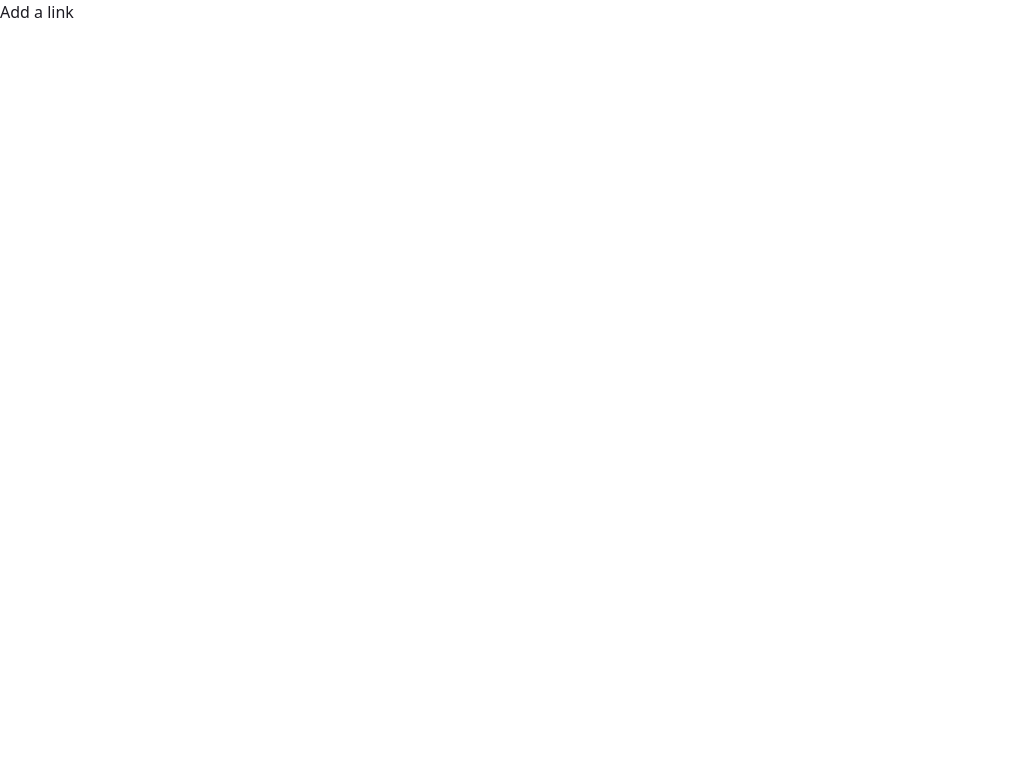
Test case: AddLinkDialog › shows the server’s reason when a link can’t be previewed
The width and height of the screenshot is (1024, 768).
Step 1. Click the button "Add a link" → (37, 12), box x1=0 y1=0 x2=74 y2=24
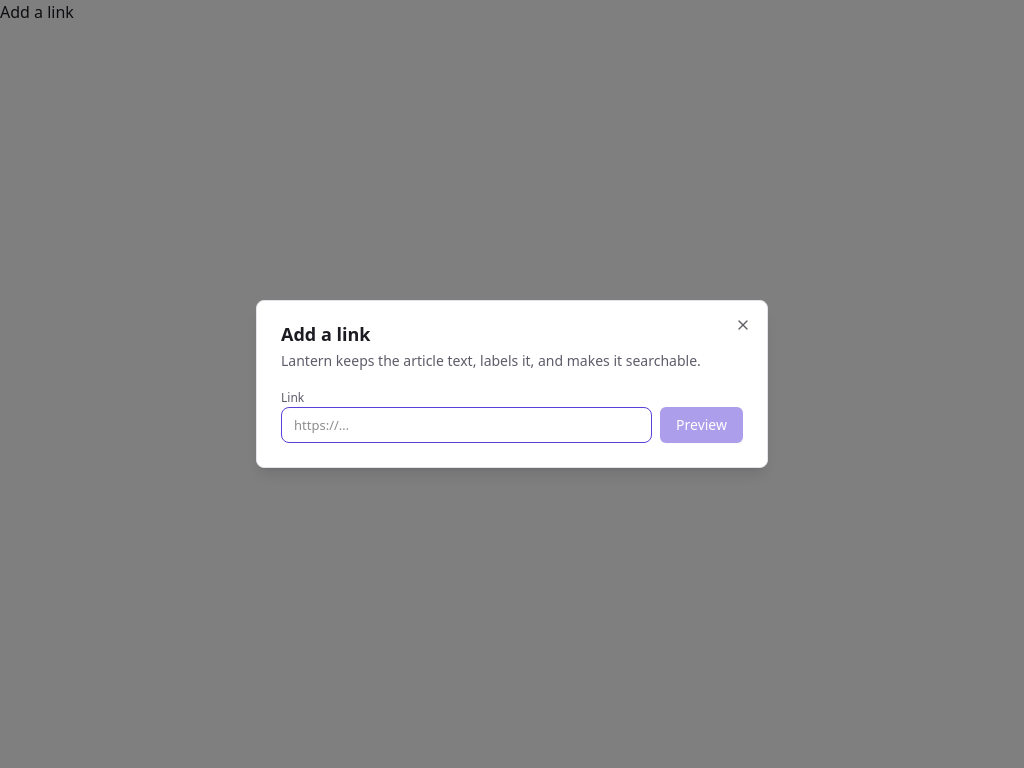
Step 2. Type "https://ised-isde.canada.ca/aida" into the field with placeholder "https://…" → (467, 425), box x1=281 y1=407 x2=652 y2=443
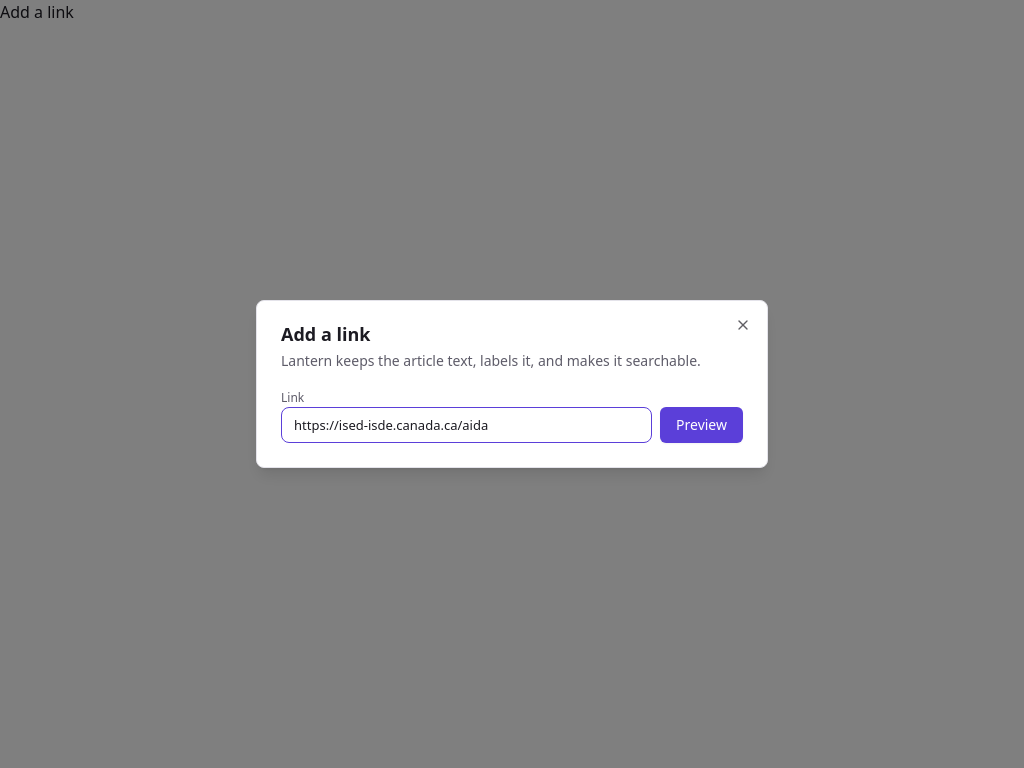
Step 3. Click the button "Preview" → (702, 425), box x1=660 y1=407 x2=743 y2=443
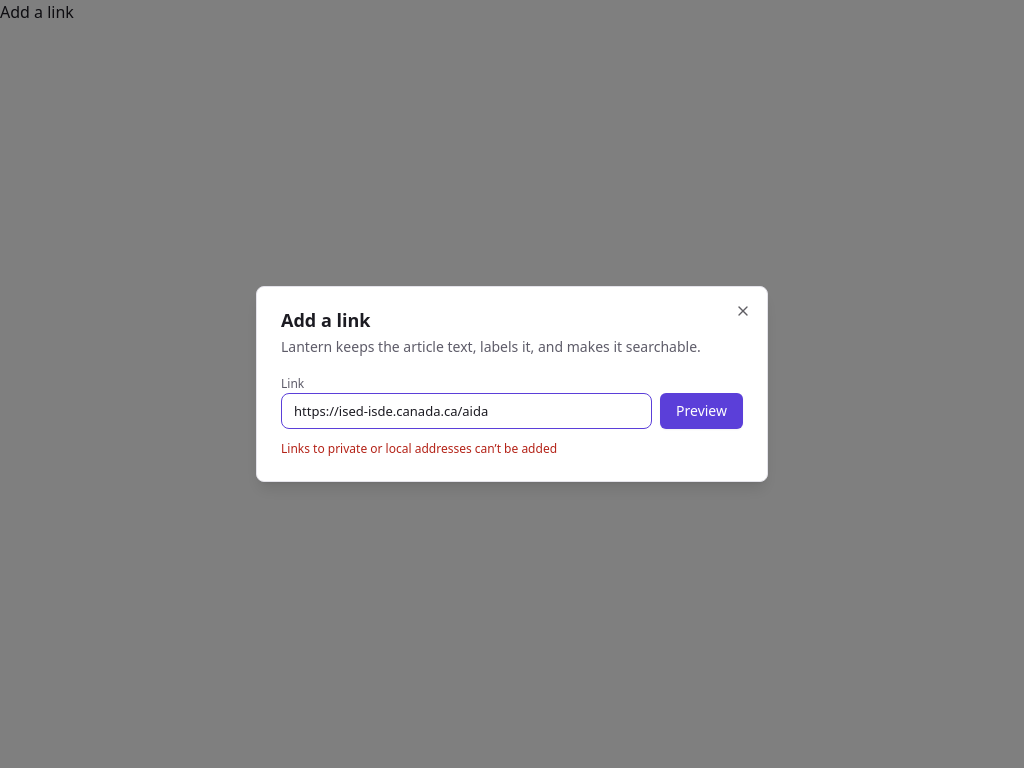
Now the message shows "private or local", box x1=281 y1=440 x2=557 y2=457
